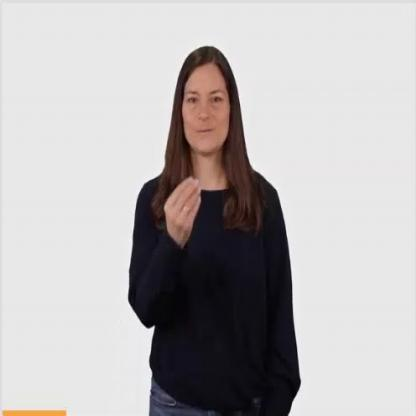Food: (126, 40, 304, 414)
